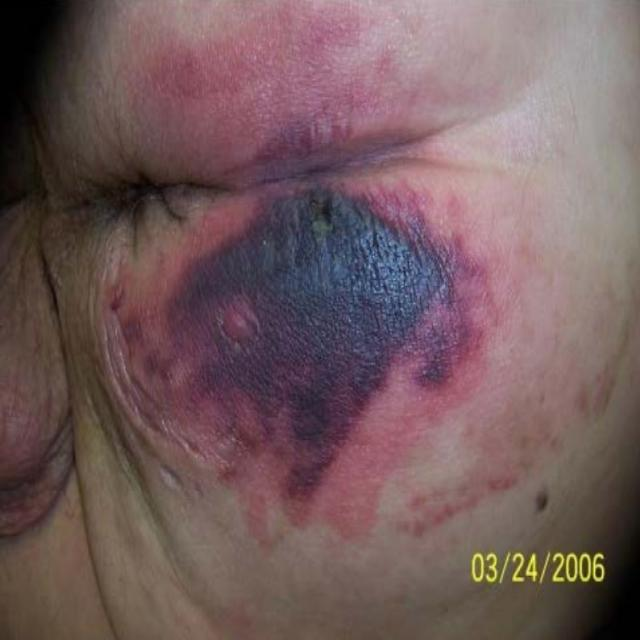DTI: (126, 100, 485, 522)
